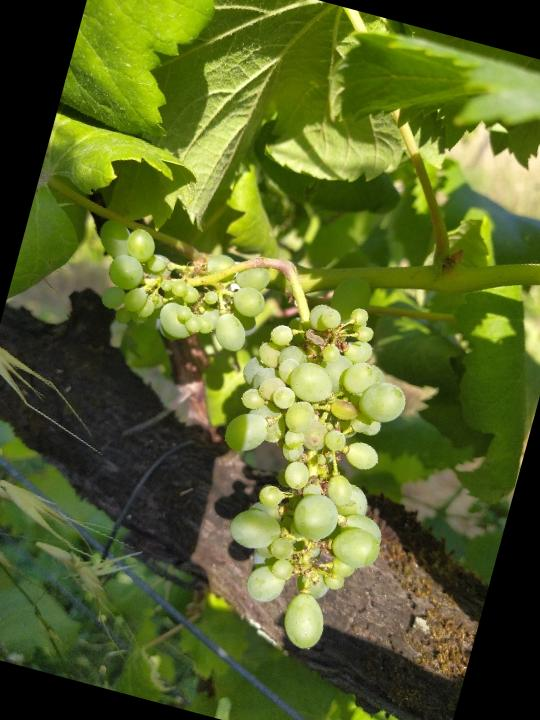grape: (7, 203, 457, 669)
